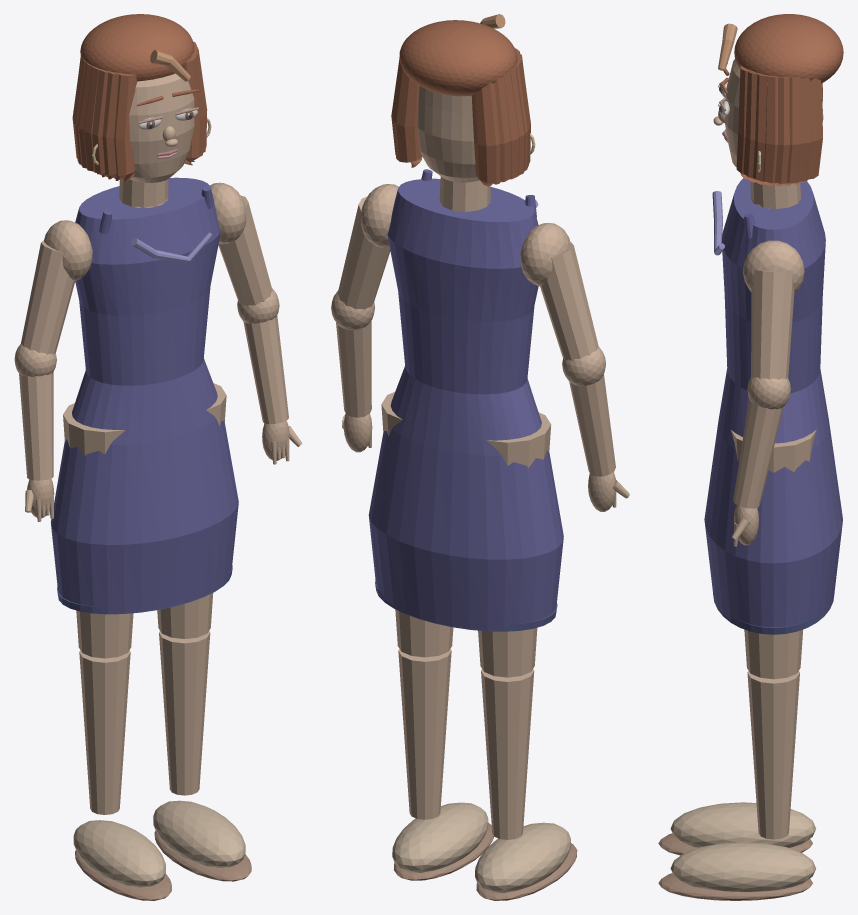
File: sloane_model_v1_3.glb
3 renders of one model, left to right at view 1: azimuth 30°, elevation 25°; view 2: azimuth 150°, elevation 25°; view 3: azimuth 270°, elevation 25°, orthographic. The views are drawn at different scales.
Visible parts, largest first — view 1: dress_body_009, R_ankle_007, L_ankle_003, hair_cap_056, face_skin_035, R_shoe_005, L_shoe_001, L_upper_arm_013, L_thigh_004, L_forearm_015, R_forearm_025, R_upper_arm_023 (+18 smaller); view 2: dress_body_009, R_ankle_007, L_ankle_003, hair_cap_056, R_shoe_005, L_shoe_001, face_skin_035, L_thigh_004, L_upper_arm_013, L_forearm_015, R_upper_arm_023, R_forearm_025 (+16 smaller); view 3: dress_body_009, R_ankle_007, R_shoe_005, hair_cap_056, R_upper_arm_023, L_shoe_001, R_thigh_008, R_forearm_025, R_shoulder_cap_022, R_sole_006, hair_bob_062, hair_bob_060 (+14 smaller).
Boxes of the visible parts, x1=… form: dress_body_009: x1=50, y1=177, x2=238, y2=612; R_ankle_007: x1=159, y1=631, x2=210, y2=795; L_ankle_003: x1=79, y1=650, x2=130, y2=814; hair_cap_056: x1=80, y1=14, x2=194, y2=81; face_skin_035: x1=129, y1=73, x2=194, y2=182; R_shoe_005: x1=153, y1=800, x2=245, y2=867; L_shoe_001: x1=73, y1=820, x2=165, y2=887; L_upper_arm_013: x1=21, y1=240, x2=75, y2=354; L_thigh_004: x1=63, y1=403, x2=133, y2=658; L_forearm_015: x1=19, y1=372, x2=53, y2=480; R_forearm_025: x1=243, y1=315, x2=288, y2=424; R_upper_arm_023: x1=218, y1=195, x2=272, y2=306; dress_body_009: x1=368, y1=178, x2=563, y2=629; R_ankle_007: x1=398, y1=649, x2=451, y2=819; L_ankle_003: x1=481, y1=669, x2=534, y2=839; hair_cap_056: x1=399, y1=20, x2=517, y2=96; R_shoe_005: x1=392, y1=802, x2=488, y2=872; L_shoe_001: x1=475, y1=822, x2=570, y2=893; face_skin_035: x1=417, y1=86, x2=479, y2=182; L_thigh_004: x1=478, y1=412, x2=551, y2=677; L_upper_arm_013: x1=540, y1=242, x2=598, y2=360; L_forearm_015: x1=569, y1=374, x2=615, y2=476; R_upper_arm_023: x1=337, y1=196, x2=390, y2=309; R_forearm_025: x1=336, y1=320, x2=371, y2=417; dress_body_009: x1=704, y1=178, x2=842, y2=627; R_ankle_007: x1=747, y1=671, x2=799, y2=839; R_shoe_005: x1=670, y1=842, x2=816, y2=891; hair_cap_056: x1=734, y1=14, x2=843, y2=83; R_upper_arm_023: x1=751, y1=269, x2=794, y2=379; L_shoe_001: x1=670, y1=802, x2=816, y2=847; R_thigh_008: x1=731, y1=430, x2=816, y2=679; R_forearm_025: x1=733, y1=399, x2=783, y2=508; R_shoulder_cap_022: x1=743, y1=240, x2=804, y2=293; R_sole_006: x1=658, y1=873, x2=812, y2=900; hair_bob_062: x1=782, y1=76, x2=802, y2=185; hair_bob_060: x1=763, y1=76, x2=780, y2=185.
Bounding box in the file's own units: 0.6048 × 1.73 × 0.3423.
